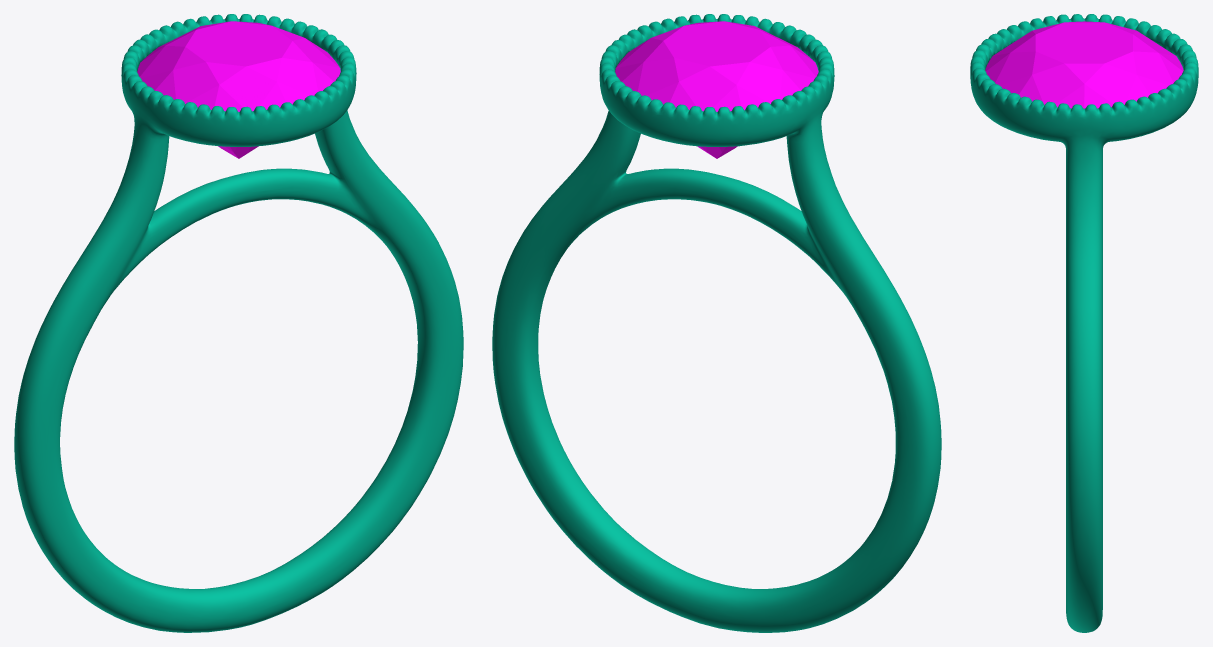
The model's file is BE1D27B5_RD_200ct_RENDER.glb.
3 views of the same model, side by side, from view 1: azimuth 30°, elevation 25°; view 2: azimuth 150°, elevation 25°; view 3: azimuth 270°, elevation 25° (orthographic). The views are drawn at different scales.
Visible parts, largest first — view 1: Metal 01, CS_Diamond_Round; view 2: Metal 01, CS_Diamond_Round; view 3: Metal 01, CS_Diamond_Round.
Boxes of the visible parts, <box> form: Metal 01: <box>14,14,463,632</box>; CS_Diamond_Round: <box>137,21,340,158</box>; Metal 01: <box>492,14,941,632</box>; CS_Diamond_Round: <box>615,21,818,158</box>; Metal 01: <box>970,14,1198,632</box>; CS_Diamond_Round: <box>985,21,1183,108</box>.
Size of the model in its own units: 20.06 by 25.15 by 9.2.
